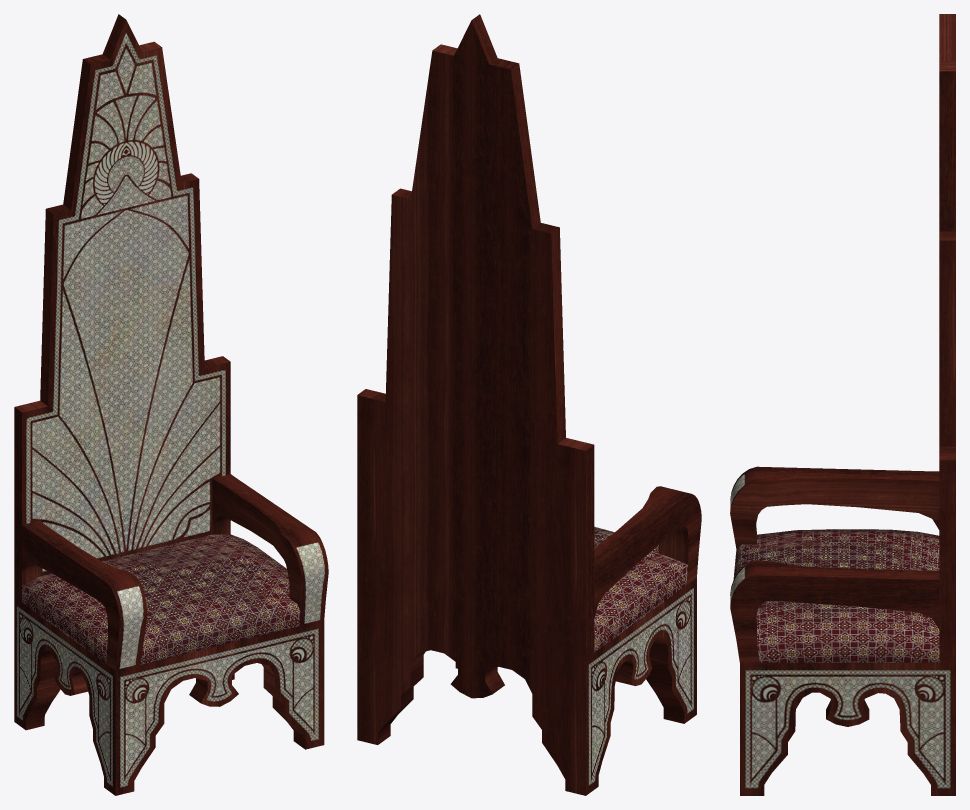
Rendered from throne-sketch-1.glb.
The picture shows the model from 3 angles, left to right: view 1: azimuth 30°, elevation 25°; view 2: azimuth 150°, elevation 25°; view 3: azimuth 270°, elevation 25°; orthographic projection. The views are drawn at different scales.
Visible parts, largest first — view 1: throne_low_h; view 2: throne_low_h; view 3: throne_low_h.
Boxes of the visible parts, x1,y1,x2,y2 form: throne_low_h: (14, 14, 328, 795); throne_low_h: (357, 14, 701, 795); throne_low_h: (730, 14, 955, 795).
Bounding box in the file's own units: 0.6634 × 2 × 0.5622.
Materials: 1 (1 with a texture image).
